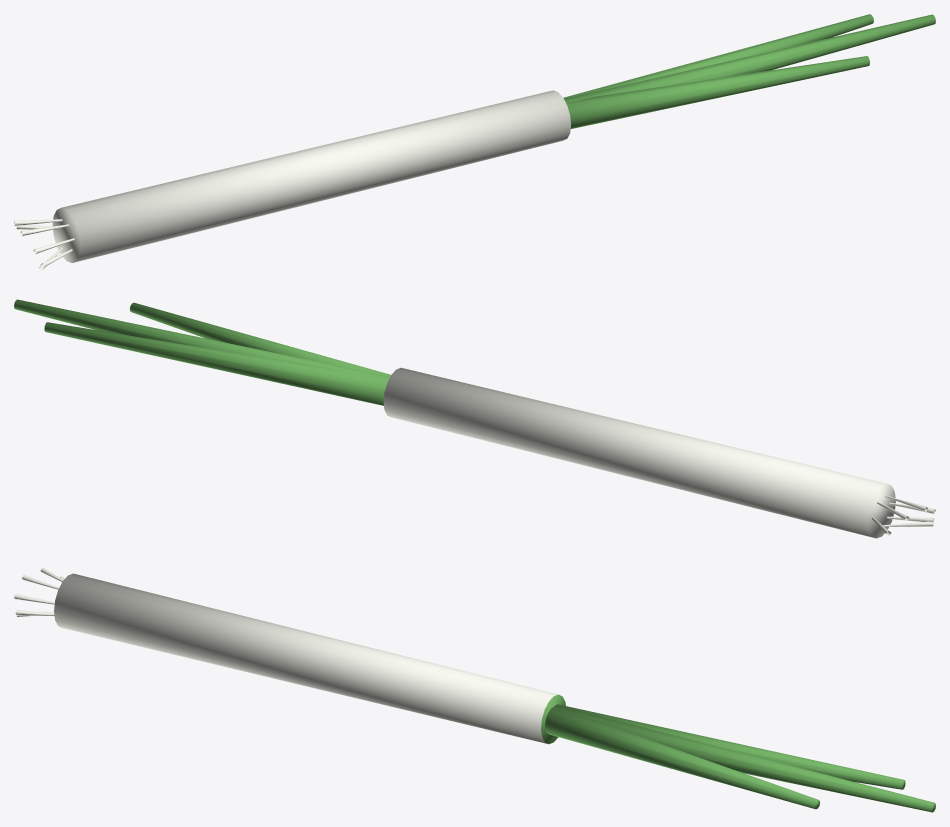
Rendered from GreenOnion.fbx.
3 renders of one model, top to bottom at view 1: azimuth 30°, elevation 25°; view 2: azimuth 150°, elevation 25°; view 3: azimuth 330°, elevation 25°, orthographic.
Parts seen in each view (by area): view 1: GreenOnion; view 2: GreenOnion; view 3: GreenOnion.
Part boxes in pixels (bbox=[...]): GreenOnion: bbox=[14, 14, 935, 270]; GreenOnion: bbox=[14, 299, 935, 538]; GreenOnion: bbox=[14, 567, 935, 812].
Bounding box in the file's own units: 0.4103 × 0.022 × 0.0367.
